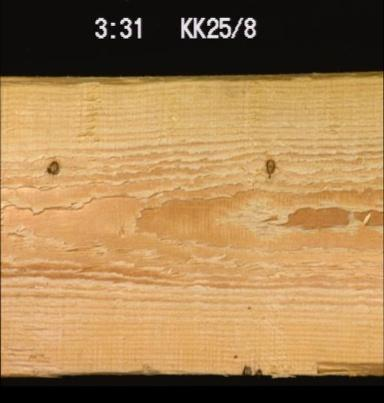dry_knot: (44, 158, 59, 174), (263, 156, 275, 173)
edge_knot: (240, 362, 250, 374), (253, 366, 262, 374)
wave: (0, 73, 152, 92), (311, 354, 382, 373)
